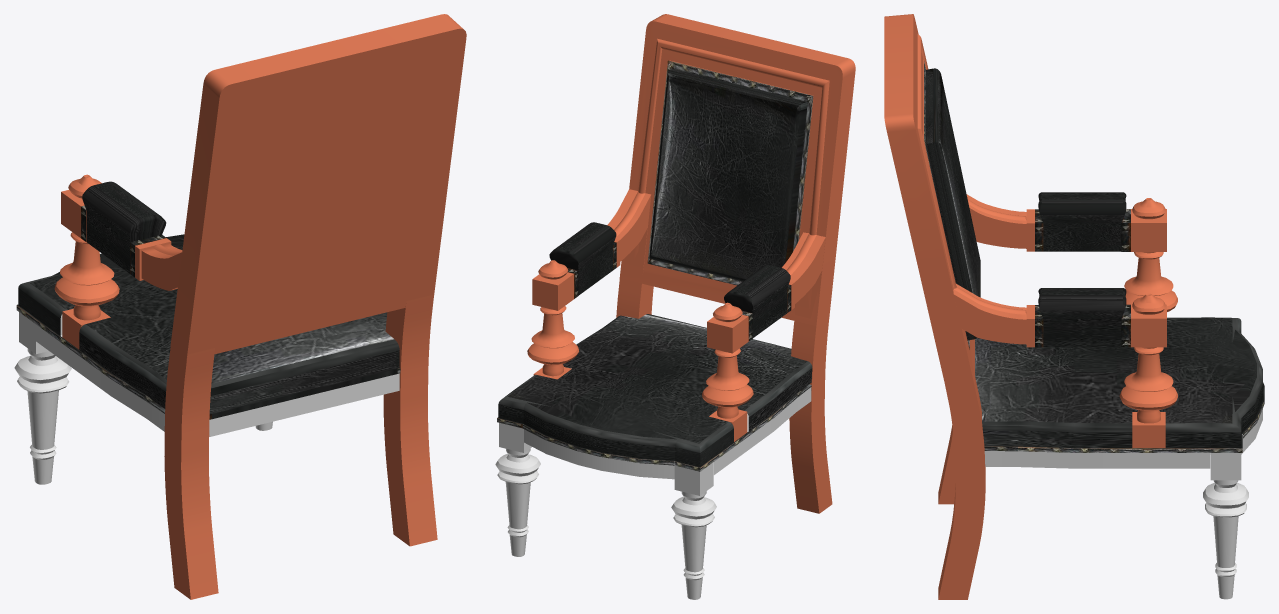
The model's file is stul.fbx.
3 views of the same model, side by side, from view 1: azimuth 30°, elevation 25°; view 2: azimuth 150°, elevation 25°; view 3: azimuth 270°, elevation 25° (orthographic). The views are drawn at different scales.
Visible parts, largest first — view 1: Куб, Куб.003, Куб.001, Куб.002; view 2: Куб, Куб.001, Куб.003, Куб.002; view 3: Куб.003, Куб.001, Куб, Куб.002.
Part boxes in pixels (x1,y1,x2,y2): Куб: [170, 14, 466, 360]; Куб.003: [54, 174, 437, 599]; Куб.001: [16, 234, 400, 436]; Куб.002: [14, 312, 272, 484]; Куб: [619, 14, 855, 326]; Куб.001: [497, 314, 812, 479]; Куб.003: [527, 189, 832, 513]; Куб.002: [495, 422, 716, 599]; Куб.003: [938, 192, 1177, 599]; Куб.001: [975, 317, 1264, 468]; Куб: [884, 14, 980, 388]; Куб.002: [1203, 453, 1248, 599].
Size of the model in its own units: 194 by 368 by 262.
Materials: 8 (3 with a texture image).
